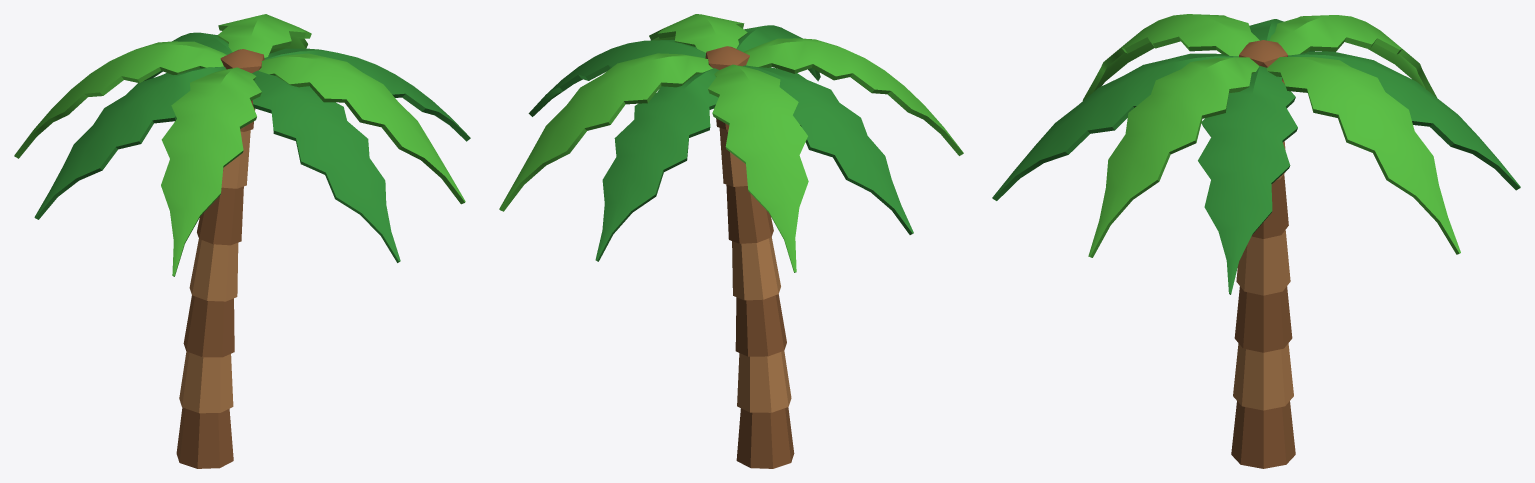
File: palm_b.fbx
The picture shows the model from 3 angles, left to right: view 1: azimuth 30°, elevation 25°; view 2: azimuth 150°, elevation 25°; view 3: azimuth 270°, elevation 25°; orthographic projection. The views are drawn at different scales.
Visible parts, largest first — view 1: palm_b; view 2: palm_b; view 3: palm_b.
Part boxes in pixels (bbox=[...]): palm_b: bbox=[14, 14, 470, 468]; palm_b: bbox=[499, 14, 963, 468]; palm_b: bbox=[992, 14, 1520, 468].
Size of the model in its own units: 2.14 by 2 by 2.2.
